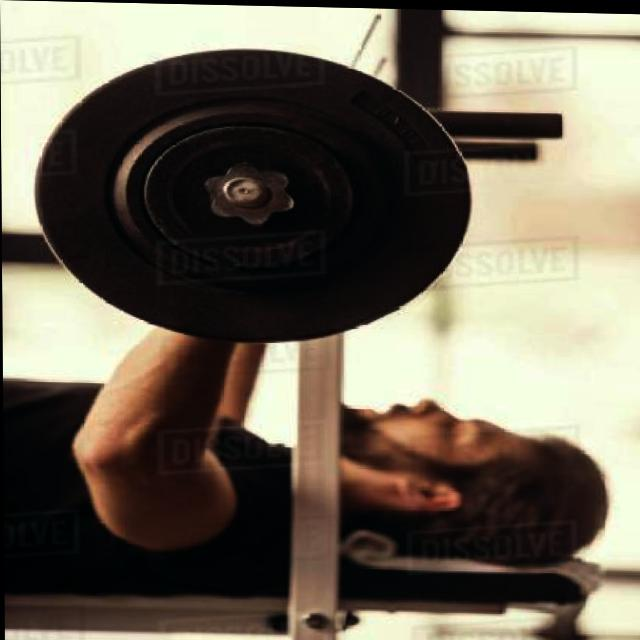barbell: (26, 47, 481, 359)
